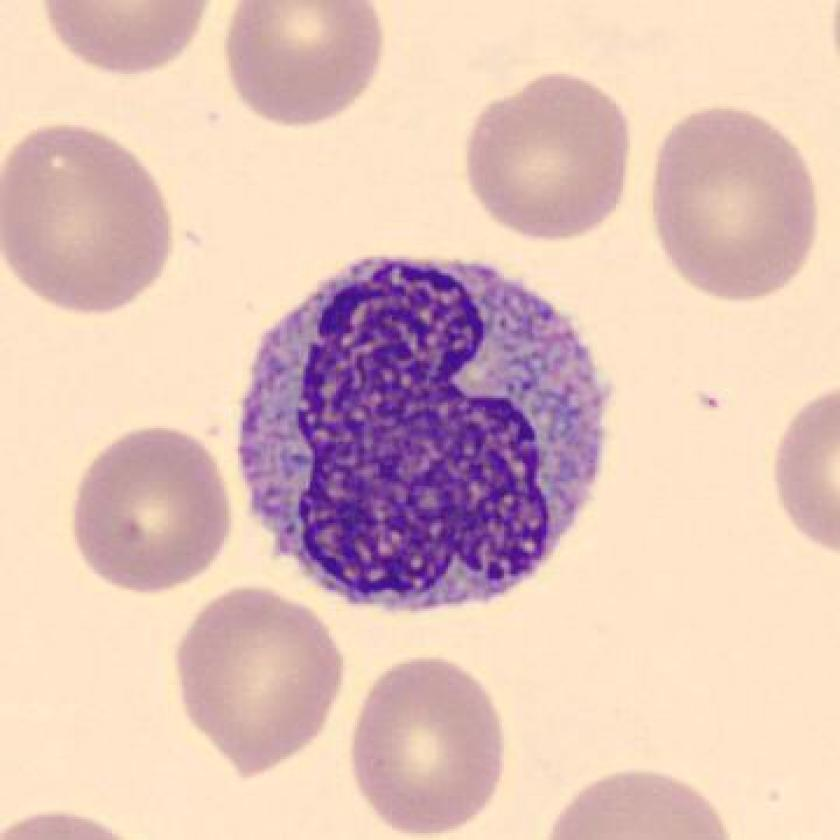monocyte: (218, 237, 636, 640)
